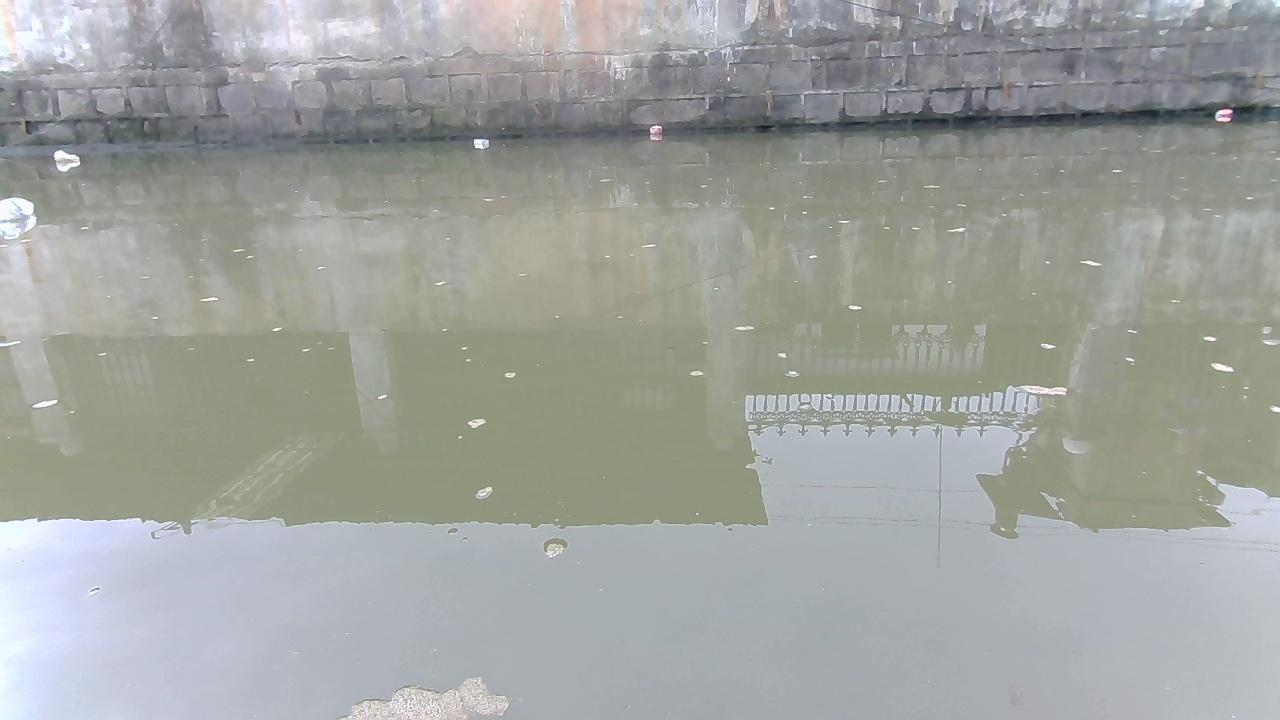bottle: (0, 194, 38, 216), (46, 149, 86, 161), (467, 136, 493, 152), (1209, 104, 1232, 119), (647, 121, 665, 139)
